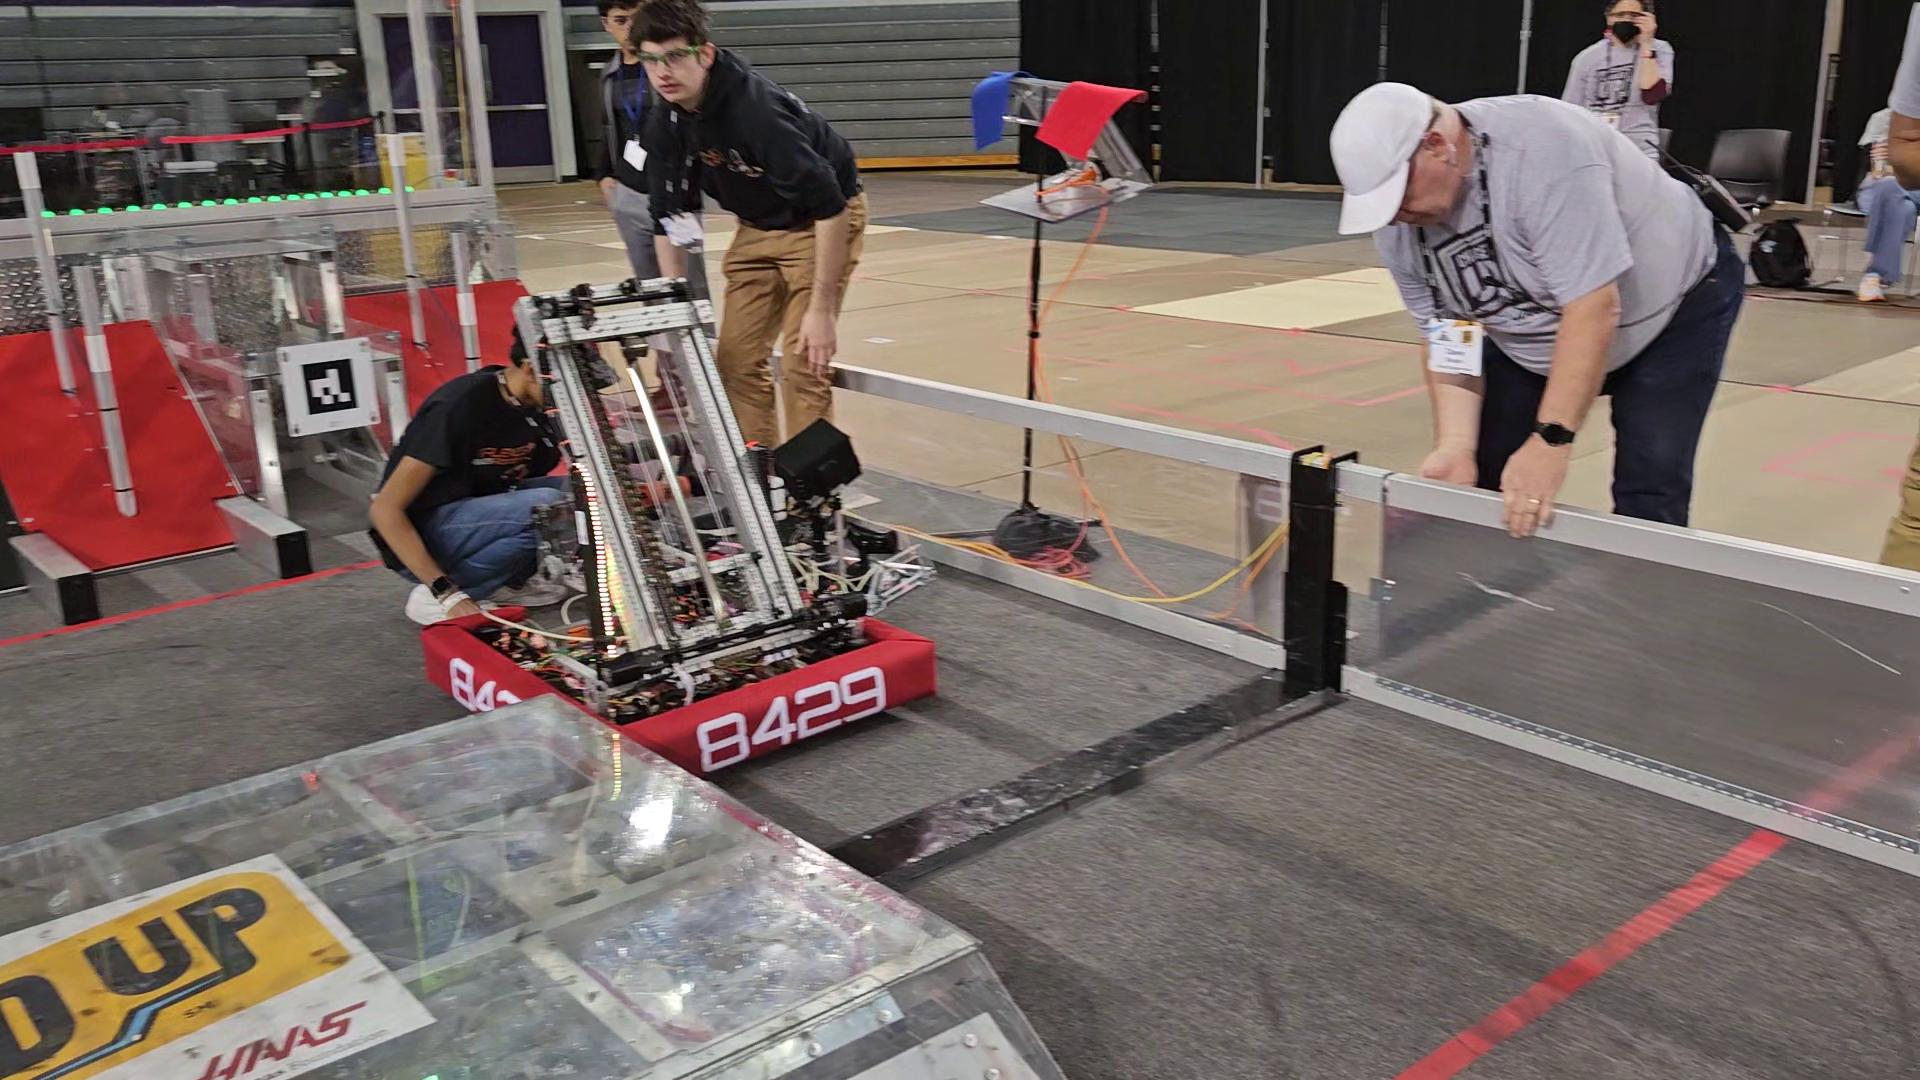robot: (425, 345, 938, 774)
